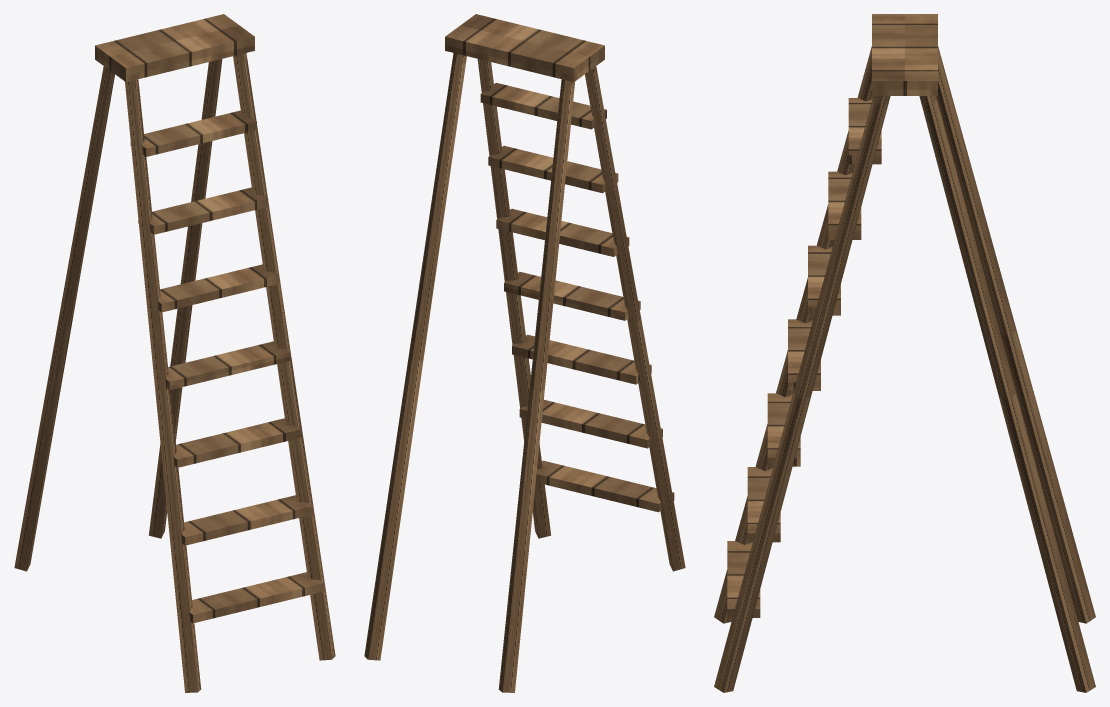
File: Ladder_Wood_1.gltf
3 views of the same model, side by side, from view 1: azimuth 30°, elevation 25°; view 2: azimuth 150°, elevation 25°; view 3: azimuth 270°, elevation 25° (orthographic). The views are drawn at different scales.
Parts seen in each view (by area): view 1: Ladder_Wood_1; view 2: Ladder_Wood_1; view 3: Ladder_Wood_1.
Boxes of the visible parts, box(x1,y1,x2,y2) form: Ladder_Wood_1: box(14, 14, 335, 692); Ladder_Wood_1: box(364, 14, 685, 692); Ladder_Wood_1: box(714, 14, 1095, 692).
Bounding box in the file's own units: 0.56 × 2.04 × 1.16.
Materials: 1 (1 with a texture image).
